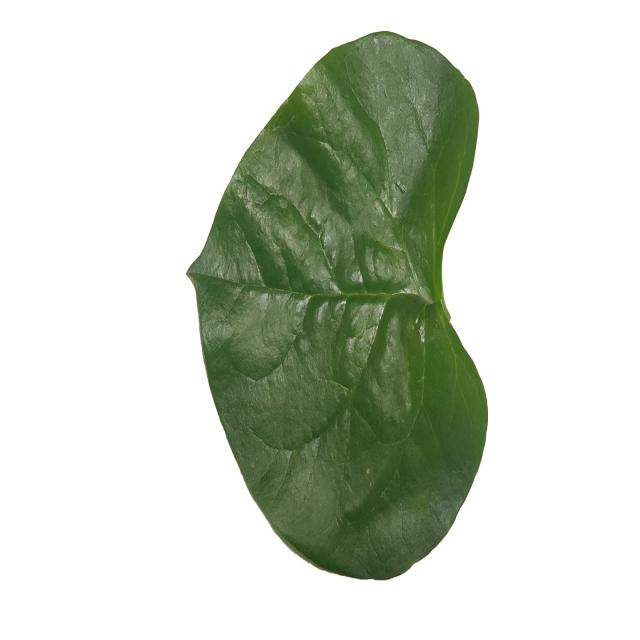Medicinal-Basale: (185, 27, 489, 581)
